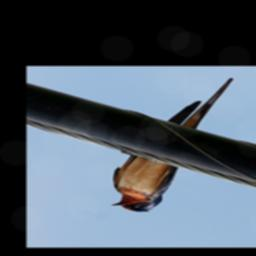Swallow: (111, 78, 235, 213)
